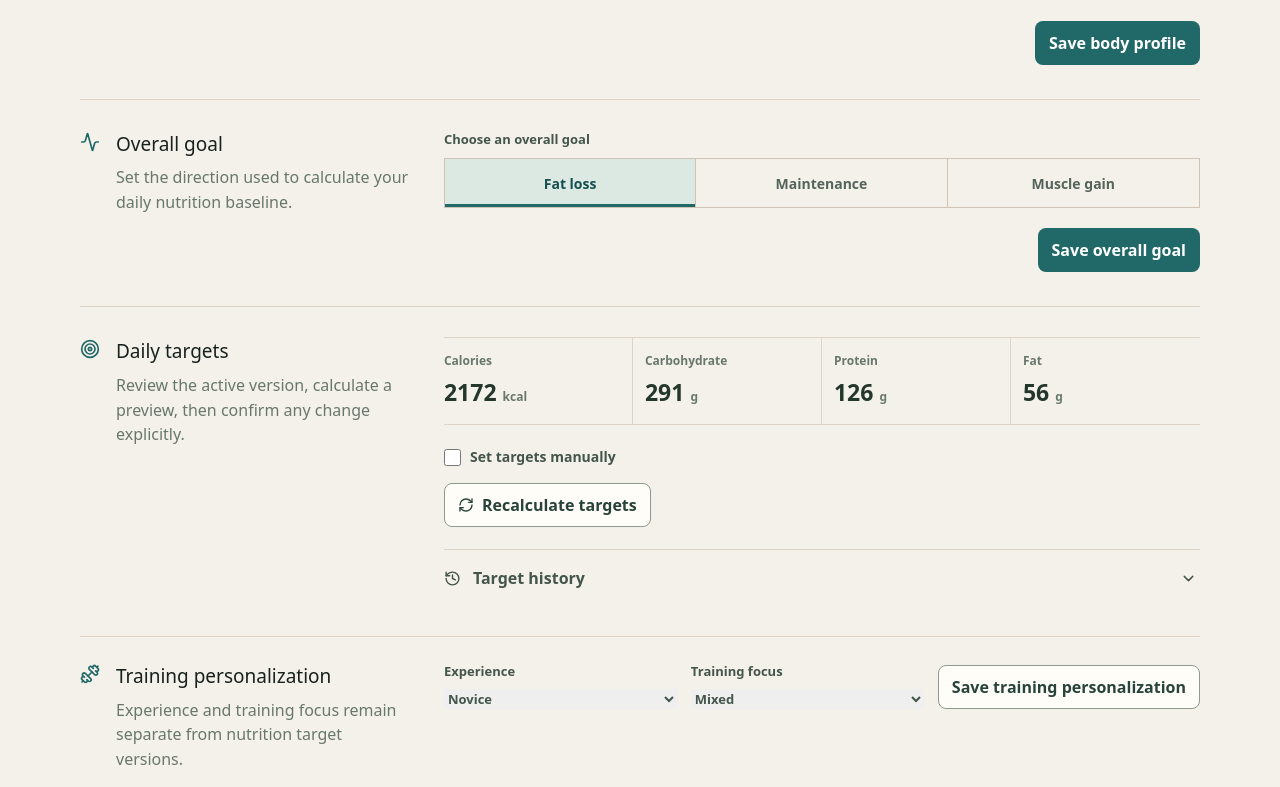
Profile › invalidates an acknowledged preview when a manual value changes
The width and height of the screenshot is (1280, 787).
(page scrolled)
Step 1. Click the checkbox labelled "Set targets manually" → point(452, 457), box [444,449,461,466]
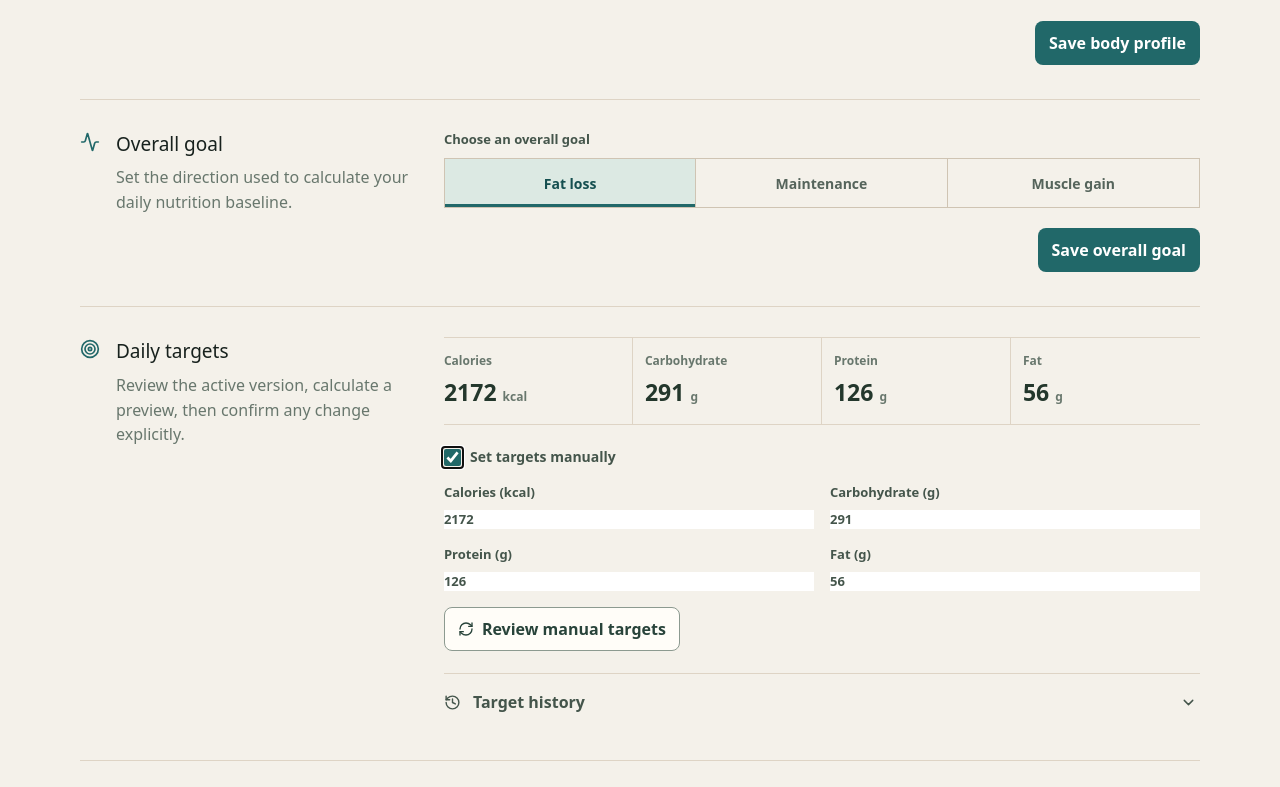
Step 2. Click the button "Review manual targets" → point(562, 629), box [444,607,680,651]
(page scrolled)
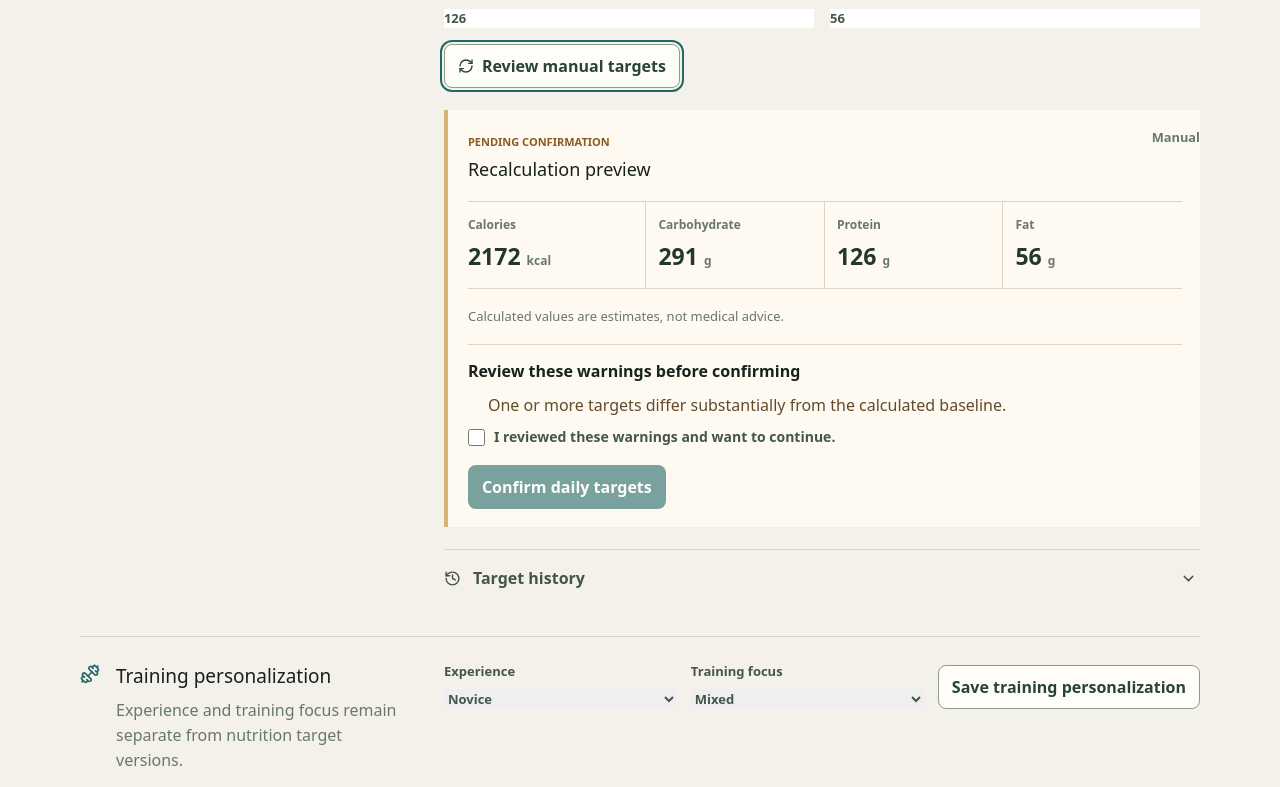
Step 3. Click the checkbox labelled "I reviewed these warnings and want to continue." → point(476, 438), box [468,429,485,446]
(page scrolled)
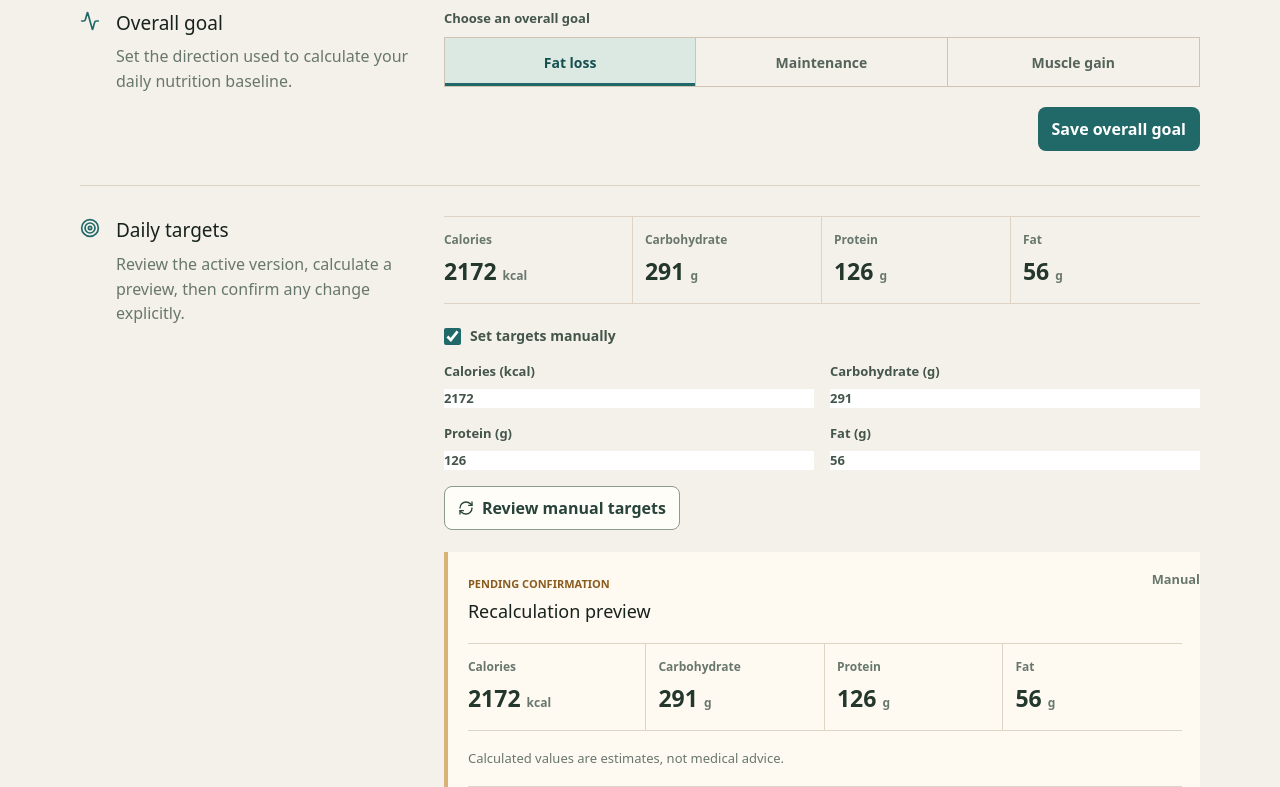
Step 4. Replace the text in the number field labelled "Calories (kcal)" with "2600" → point(629, 398), box [444,389,814,408]
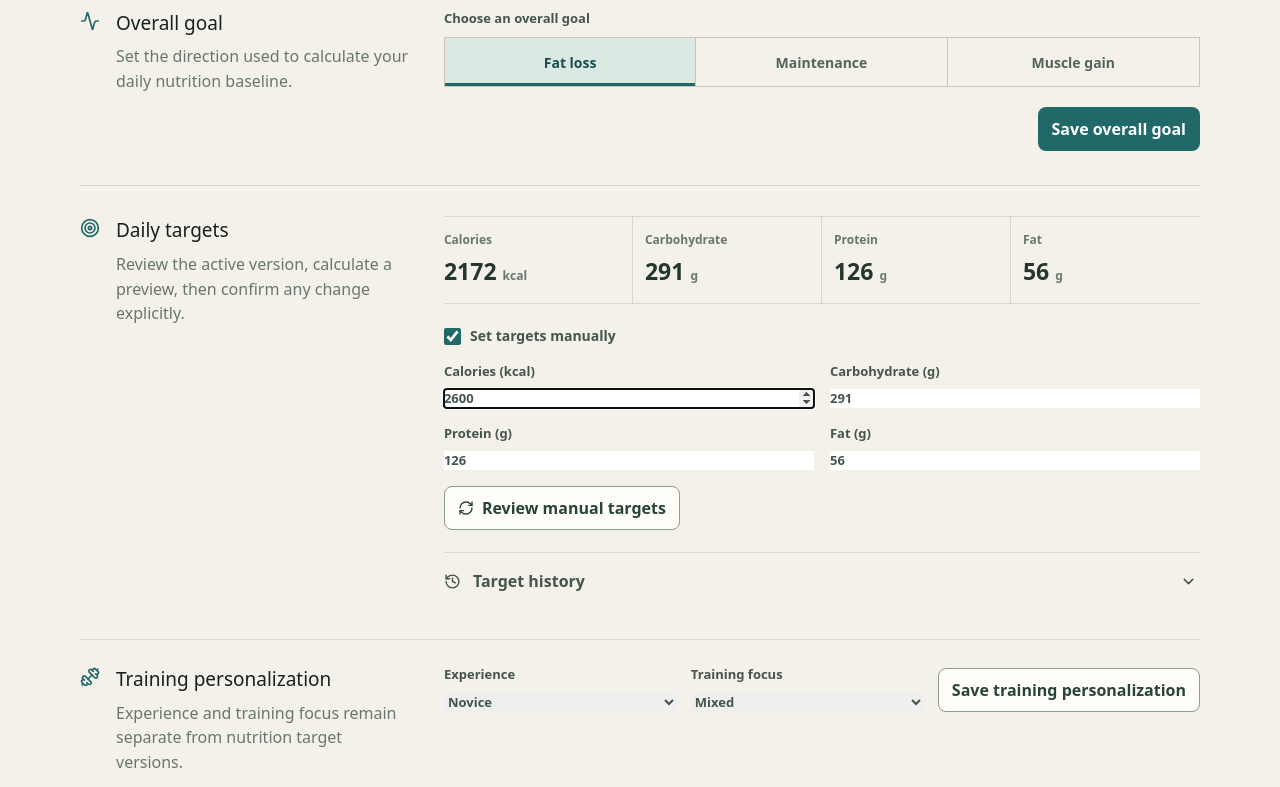
Expected: the button "Confirm daily targets" is not shown
Step 5. Click the button "Review manual targets" → point(562, 508), box [444,486,680,530]
(page scrolled)
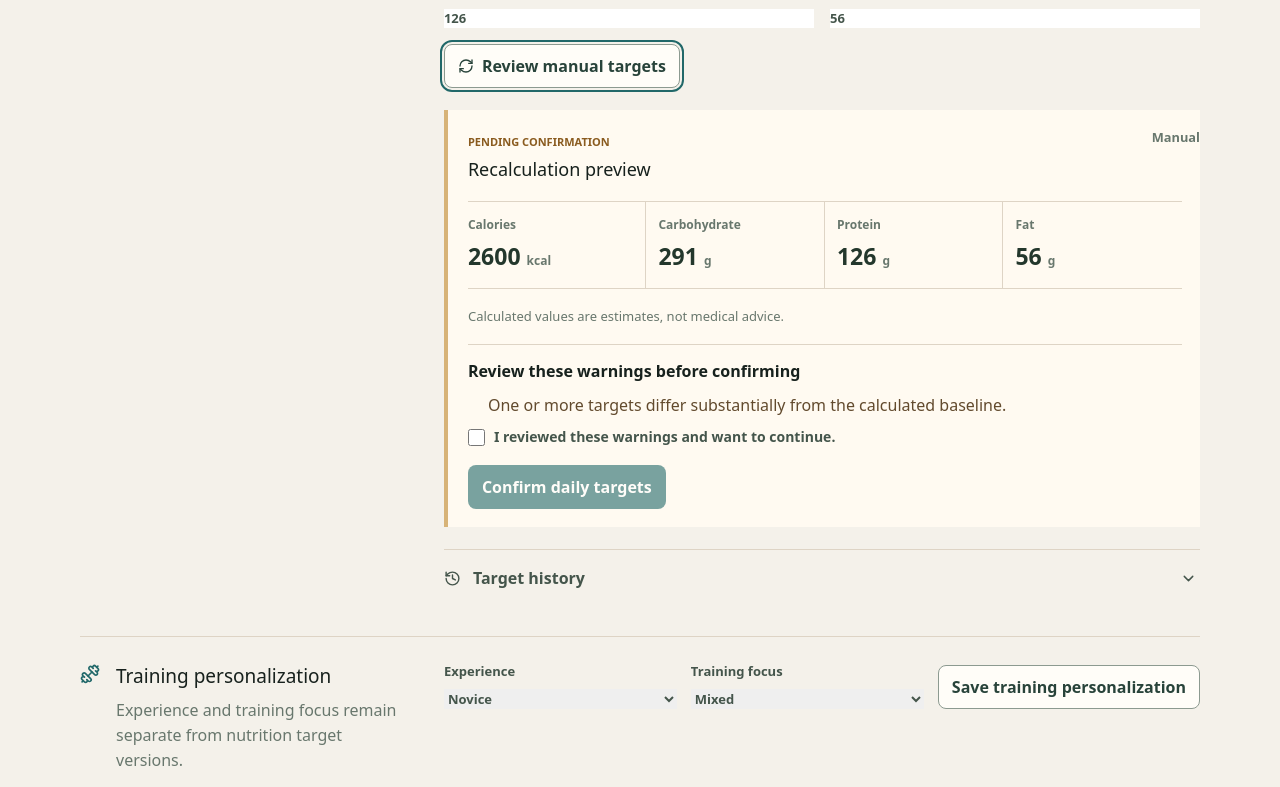
Result: the button "Confirm daily targets" is disabled at [468,465,666,509]
Step 6. Click the checkbox labelled "I reviewed these warnings and want to continue." → point(476, 438), box [468,429,485,446]
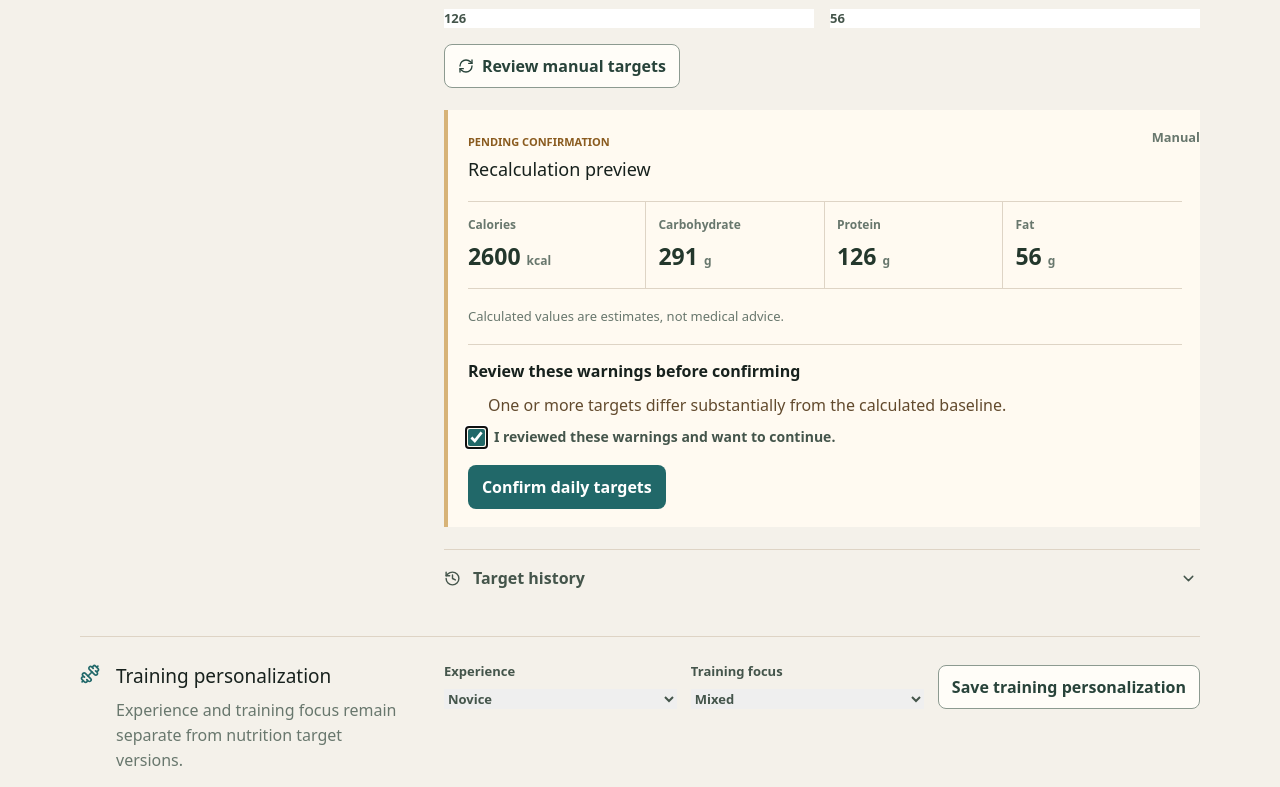
Result: the button "Confirm daily targets" is enabled at [468,465,666,509]
